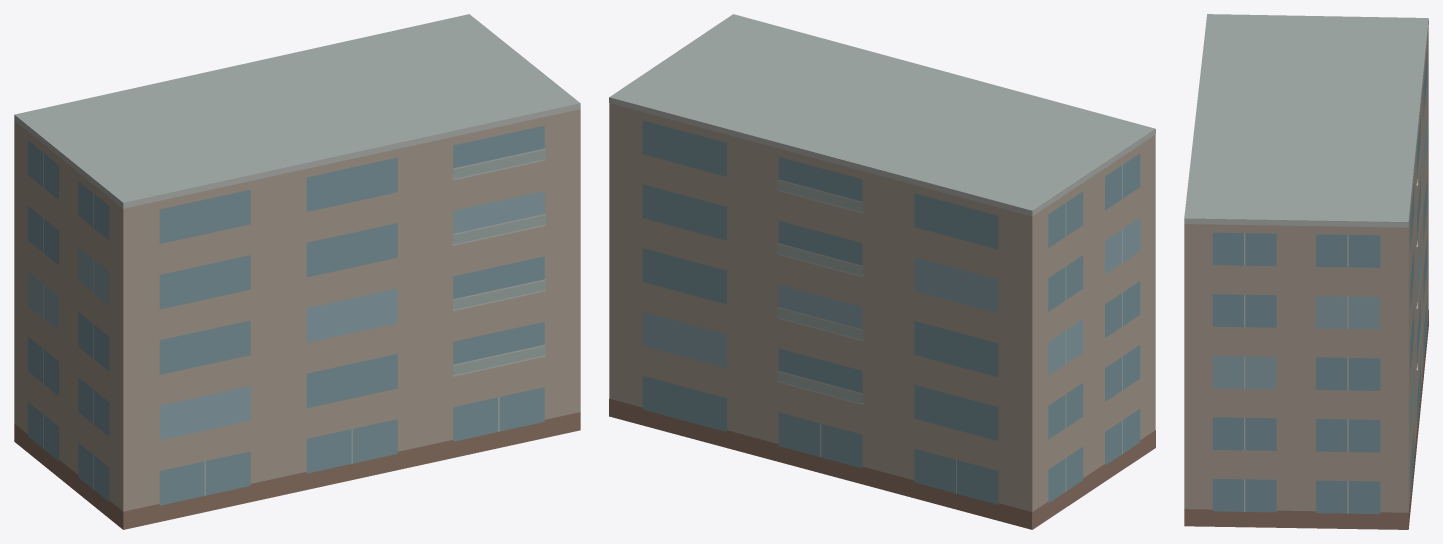
The model's file is survey-upis-33024724.glb.
3 renders of one model, left to right at view 1: azimuth 30°, elevation 25°; view 2: azimuth 150°, elevation 25°; view 3: azimuth 270°, elevation 25°, orthographic. The views are drawn at different scales.
Parts seen in each view (by area): view 1: survey-upis-33024724.tmp; view 2: survey-upis-33024724.tmp; view 3: survey-upis-33024724.tmp.
Boxes of the visible parts, x1,y1,x2,y2 form: survey-upis-33024724.tmp: (14, 14, 580, 529); survey-upis-33024724.tmp: (609, 14, 1155, 529); survey-upis-33024724.tmp: (1184, 14, 1428, 529).
Size of the model in its own units: 19.73 by 13.6 by 9.81.
